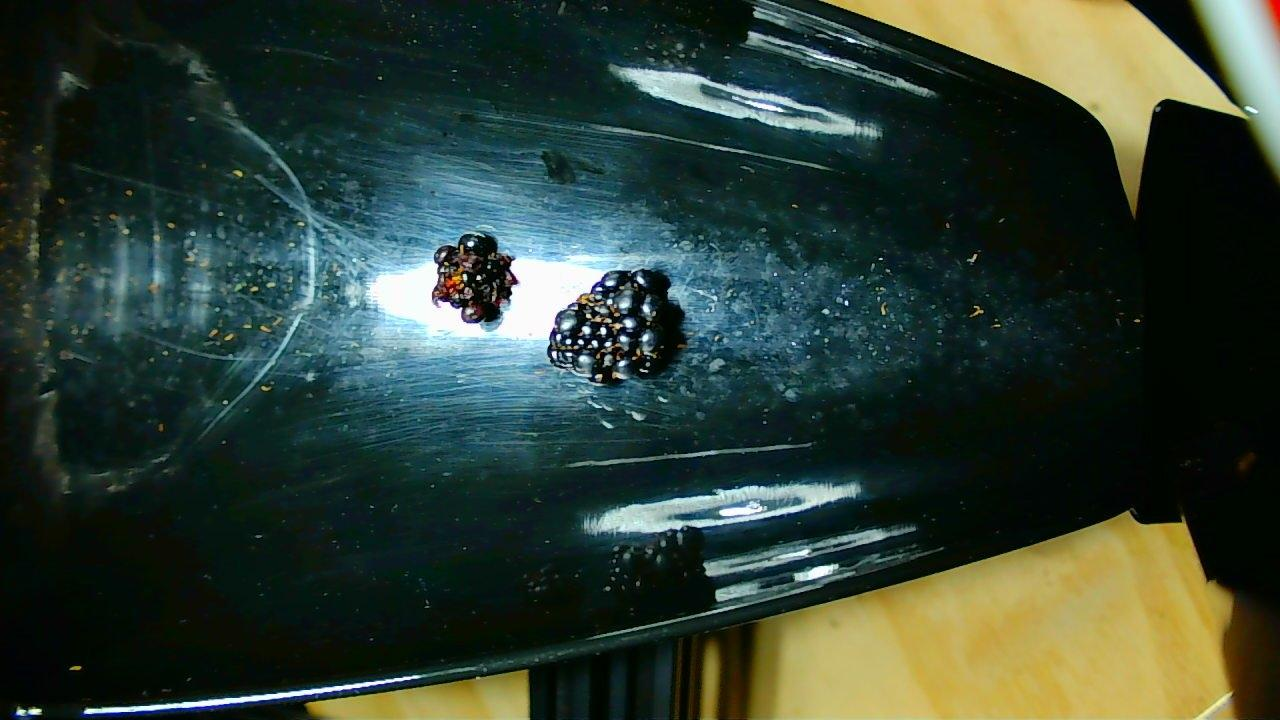berry: (549, 268, 684, 383), (435, 234, 515, 320)
